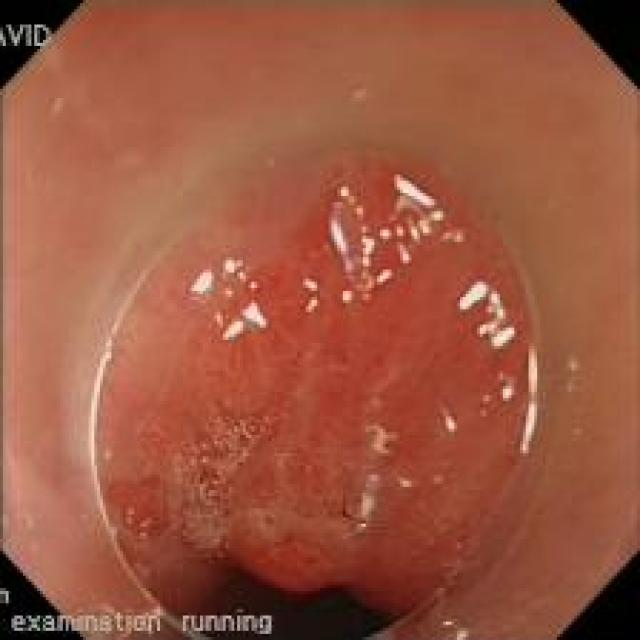bubbles: (177, 412, 280, 510), (416, 560, 463, 637), (346, 502, 365, 520)
color misalignment: (11, 613, 163, 635), (181, 611, 273, 635), (1, 24, 54, 47), (2, 591, 11, 610)
specularity: (331, 189, 375, 302), (381, 176, 446, 244), (477, 291, 517, 347), (520, 348, 538, 455), (459, 284, 489, 311), (244, 306, 266, 330), (192, 274, 214, 296), (224, 324, 244, 340), (376, 271, 391, 284), (400, 246, 411, 263), (306, 300, 319, 312), (446, 419, 458, 431), (503, 387, 513, 400), (344, 291, 354, 303), (305, 283, 319, 290), (227, 262, 235, 274), (250, 284, 256, 291)
